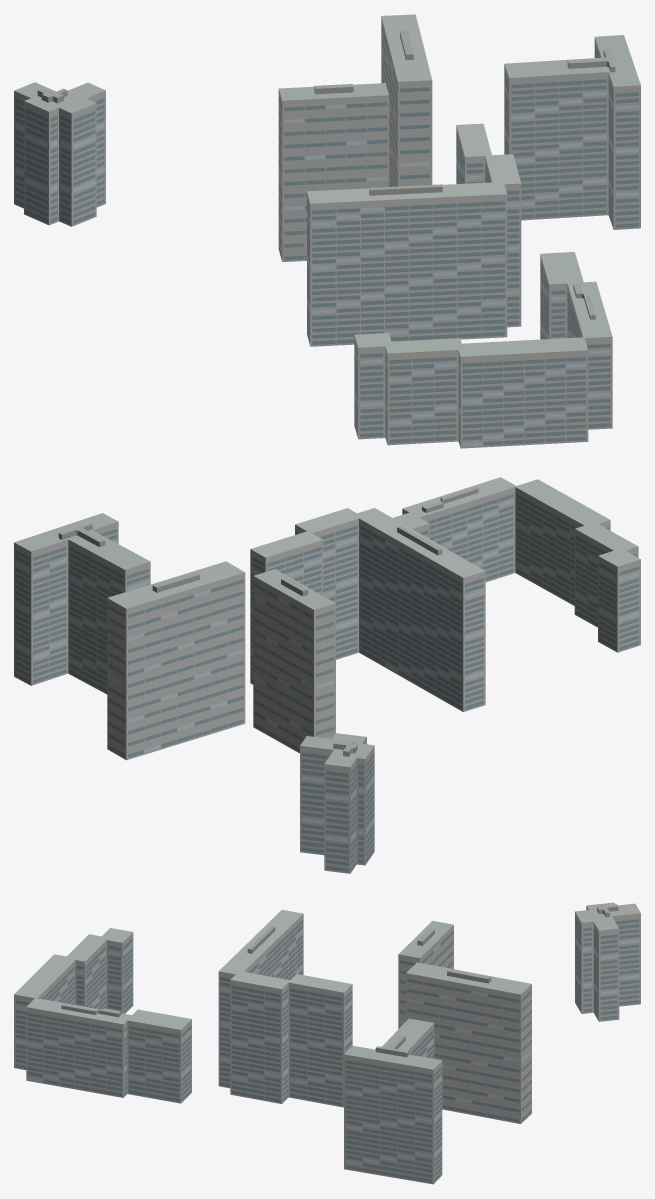
File: apt-a13606107.glb
3 renders of one model, top to bottom at view 1: azimuth 30°, elevation 25°; view 2: azimuth 150°, elevation 25°; view 3: azimuth 270°, elevation 25°, orthographic. The views are drawn at different scales.
Visible parts, largest first — view 1: apt-a13606107; view 2: apt-a13606107; view 3: apt-a13606107.
Part boxes in pixels (x1,y1,x2,y2): apt-a13606107: (14, 14, 640, 448); apt-a13606107: (14, 477, 640, 873); apt-a13606107: (14, 902, 640, 1184).
Size of the model in its own units: 223 by 73 by 310.
